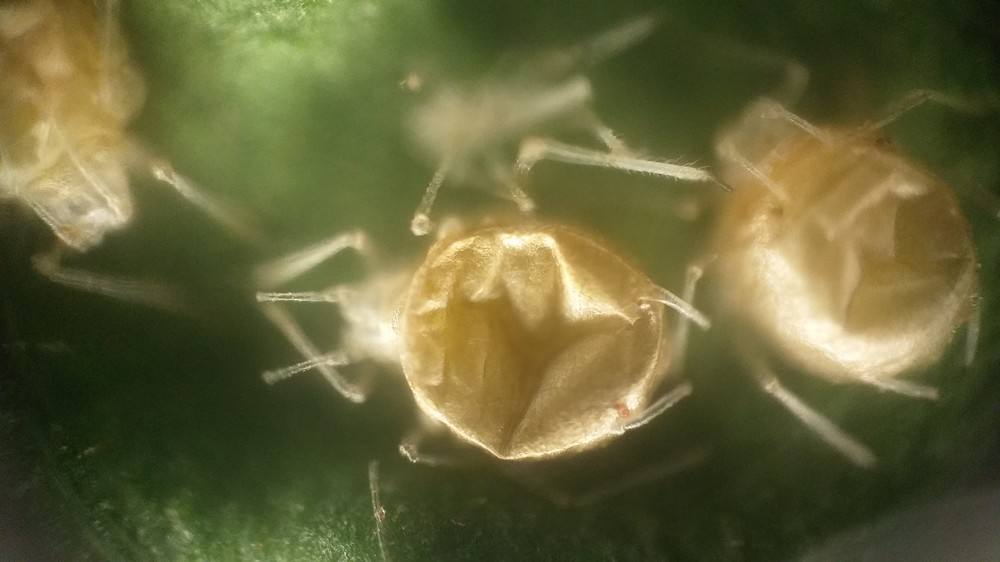Pulgon: (266, 155, 724, 505), (669, 30, 1000, 458), (1, 1, 285, 330)
